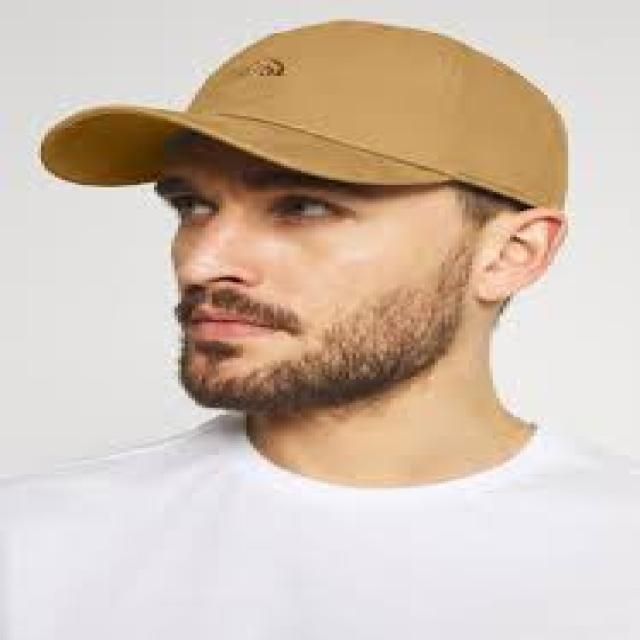cap: (12, 16, 610, 220)
